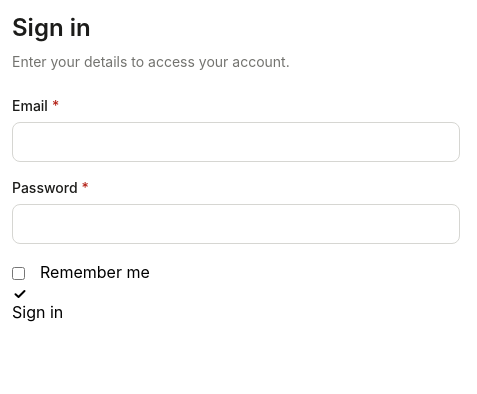
LoginForm › shows validation errors for empty fields
Click the button "Sign in" at (38, 312), box [12,300,63,324]
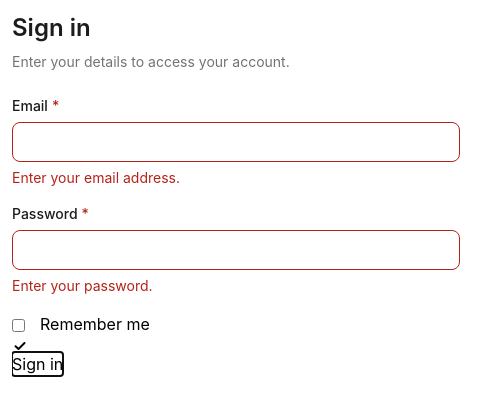
Expected: the text "Enter your email address." is shown, [12,169,180,186]
Expected: the text "Enter your password." is shown, [12,277,153,294]
